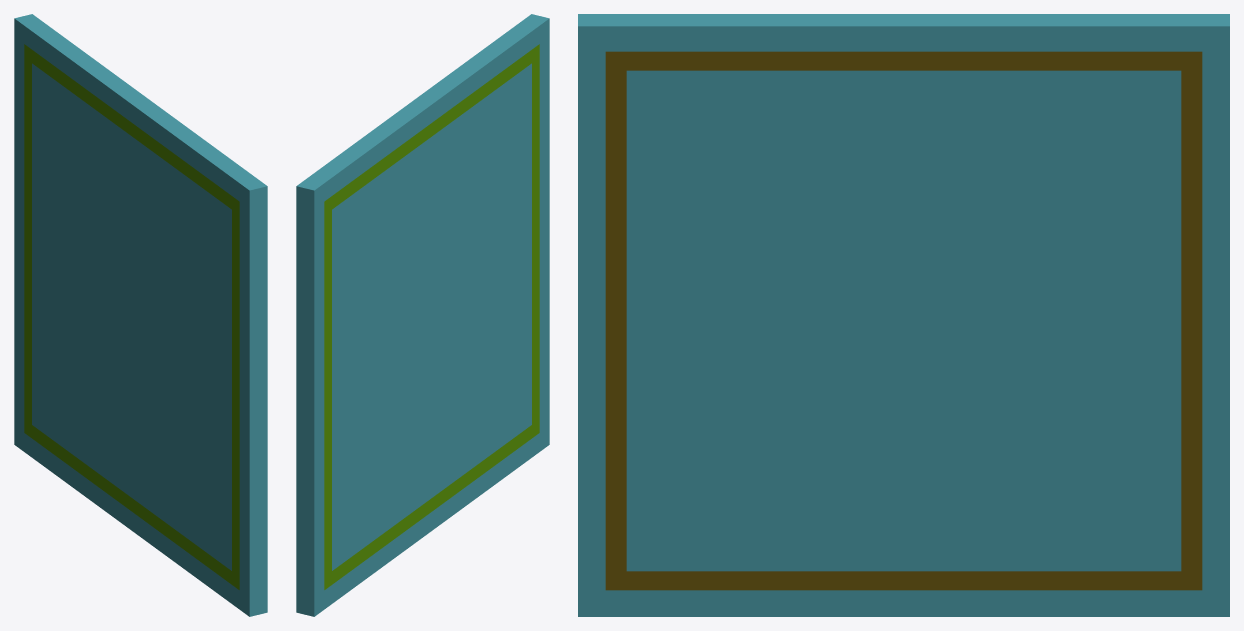
Rendered from Prop_SC_Crist_01.FBX.
3 views of the same model, side by side, from view 1: azimuth 30°, elevation 25°; view 2: azimuth 150°, elevation 25°; view 3: azimuth 270°, elevation 25° (orthographic). The views are drawn at different scales.
Parts seen in each view (by area): view 1: ModuleSC_Crist; view 2: ModuleSC_Crist; view 3: ModuleSC_Crist.
Boxes of the visible parts, x1,y1,x2,y2 form: ModuleSC_Crist: (14, 14, 267, 616); ModuleSC_Crist: (296, 14, 549, 616); ModuleSC_Crist: (578, 14, 1229, 616).
Size of the model in its own units: 1.74 by 39.37 by 39.37.
